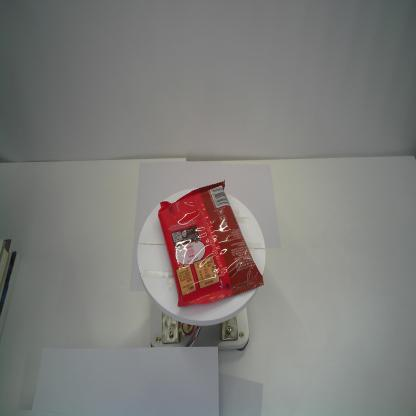Dessert: (158, 180, 264, 309)
